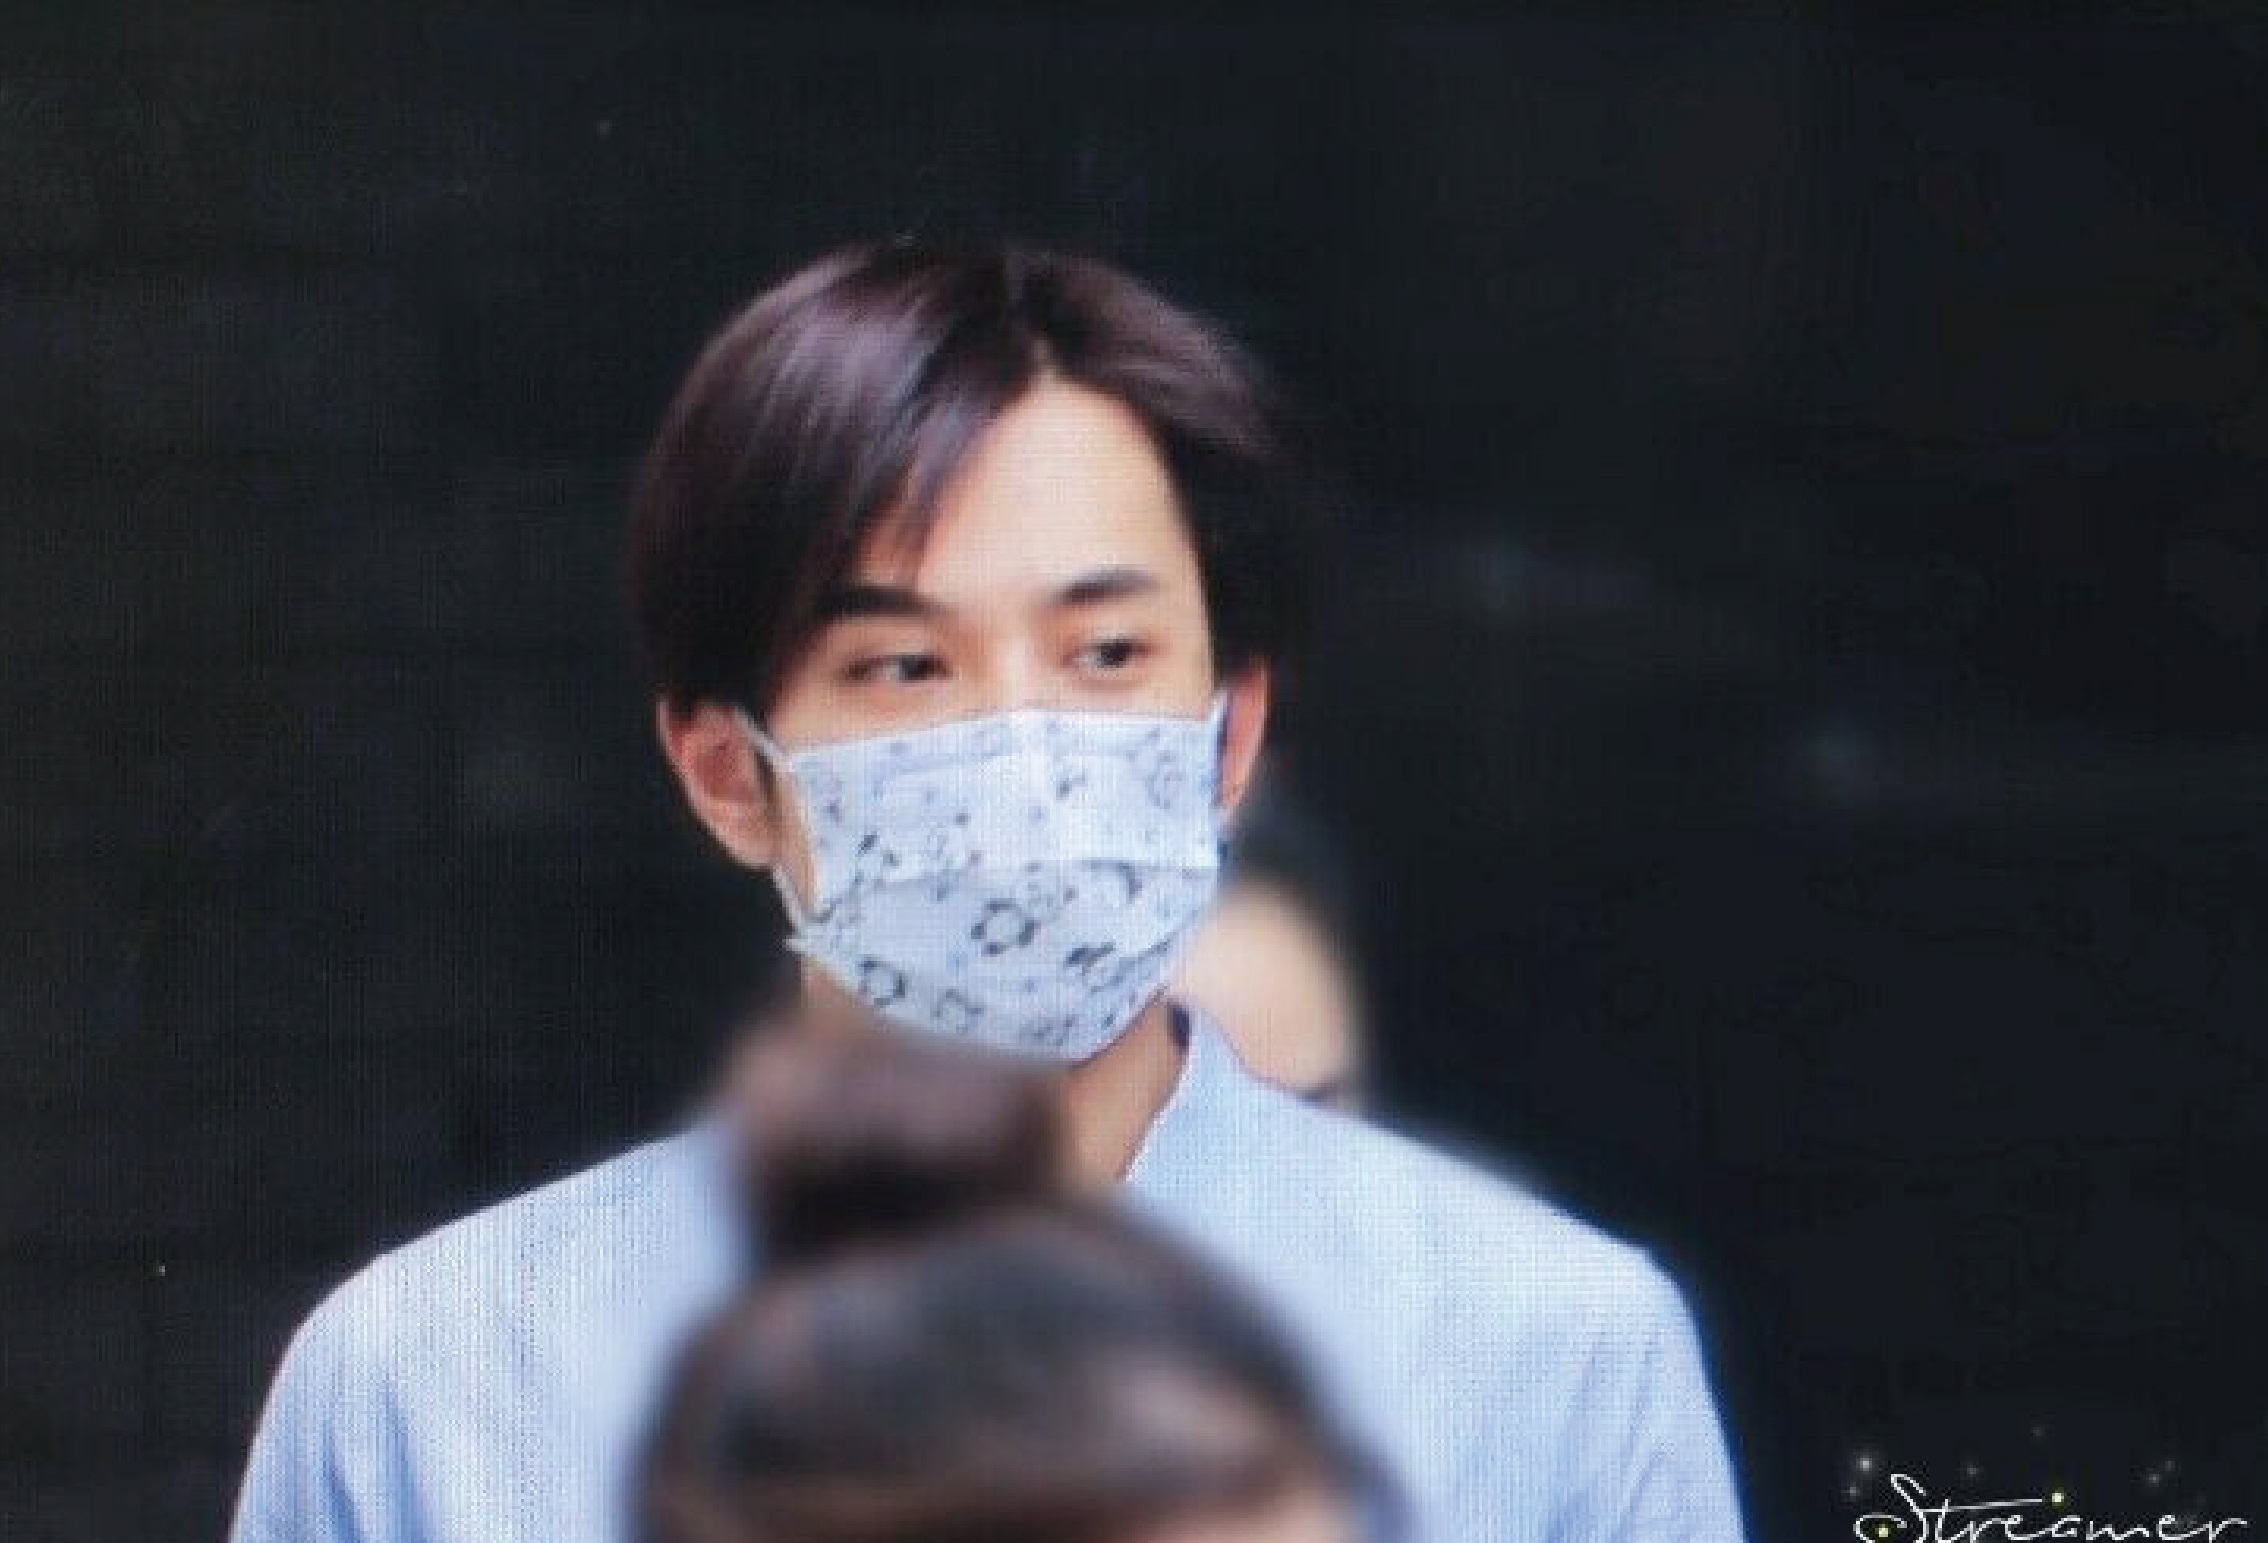face_mask: (785, 466, 1220, 1067)
